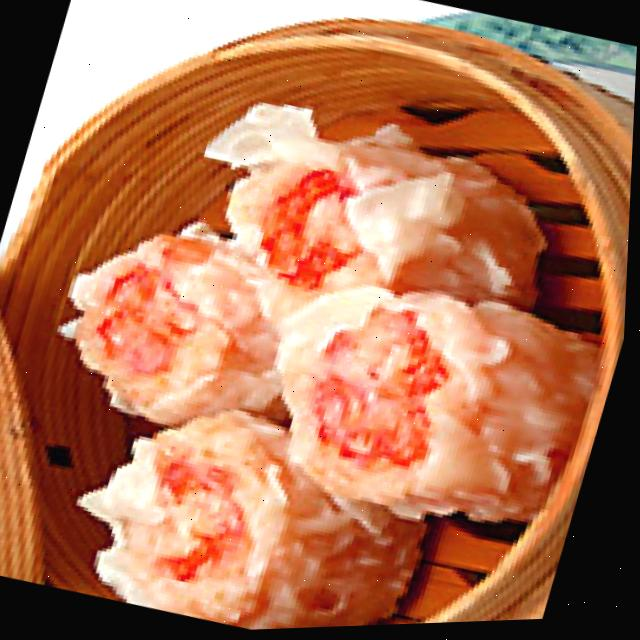带馅早点: (0, 64, 637, 640)
